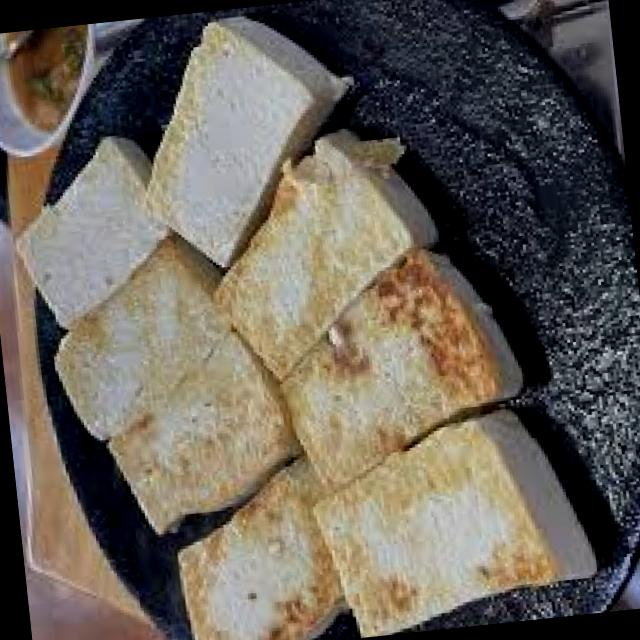tof: (35, 127, 256, 554), (314, 400, 614, 640)
